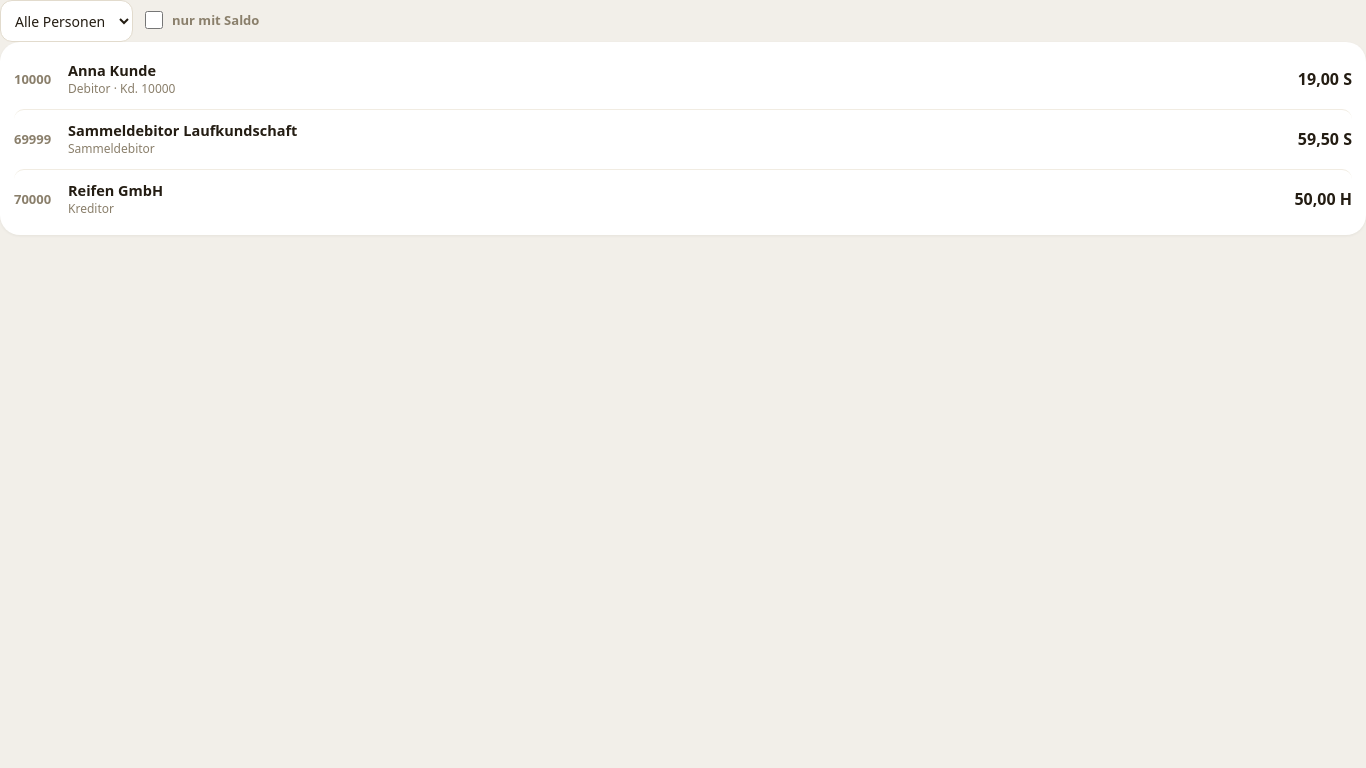
Test: Personenkonten am Handy › Karten mit Saldo, Antippen zeigt offene Posten
Check: the button "70000 Reifen GmbH Kreditor 50,00 H" is shown, box [14,169,1352,221]
Step 1. Click the button "10000 Anna Kunde" → (33, 78), box [14,56,1352,101]
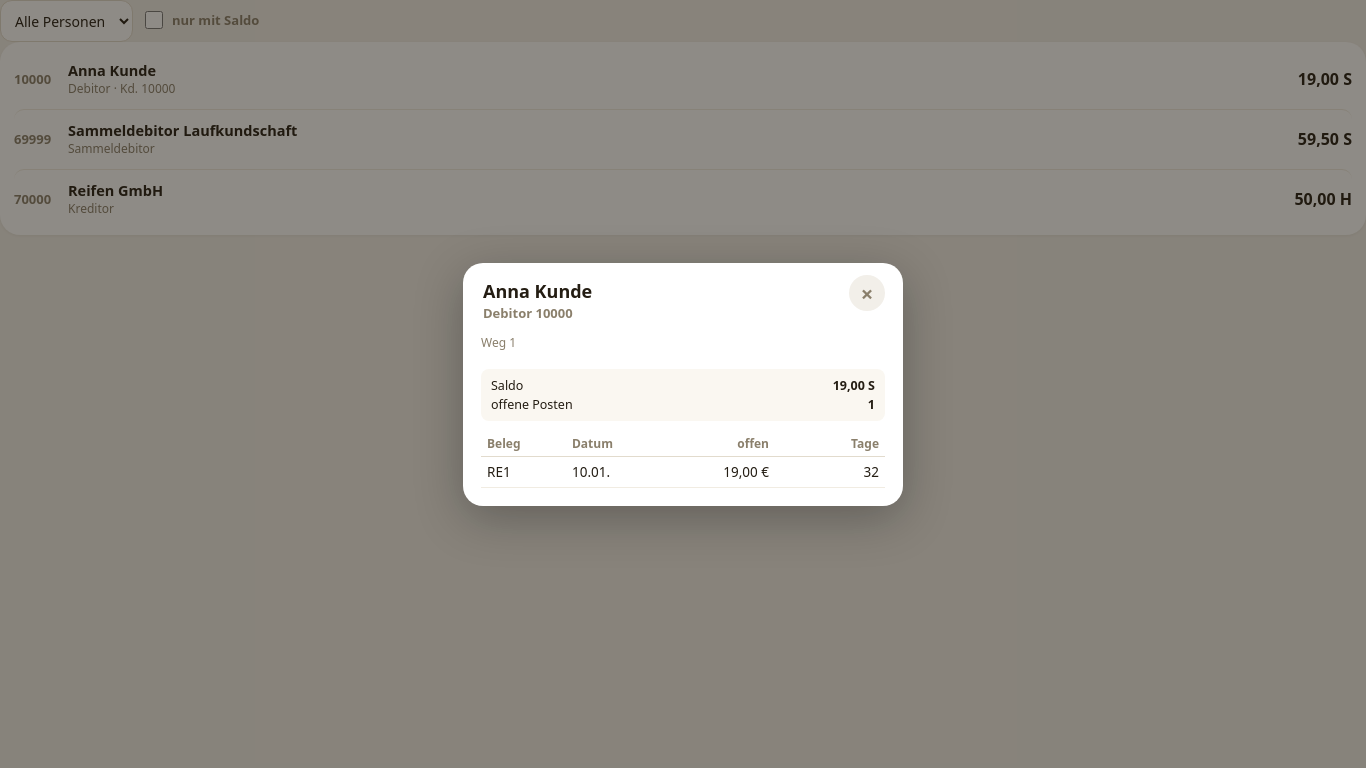
Check: the text "RE1" is shown, box [481,456,566,487]
Check: the text "32" is shown, box [775,456,885,487]
